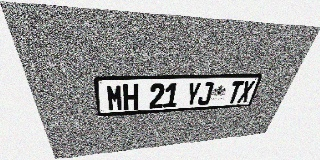1: (163, 83, 179, 108)
2: (149, 83, 165, 109)
H: (123, 84, 138, 110)
J: (197, 82, 214, 105)
M: (106, 84, 123, 111)
T: (226, 81, 244, 103)
X: (237, 81, 255, 103)
Y: (184, 82, 202, 106)
